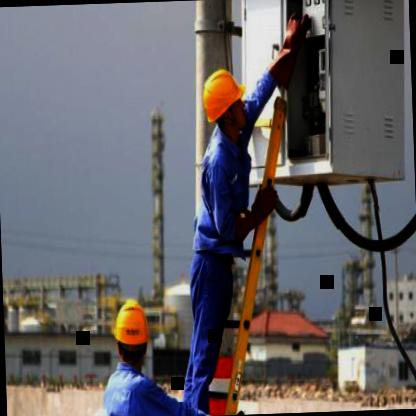helmet: (199, 62, 251, 145), (110, 296, 155, 370)
